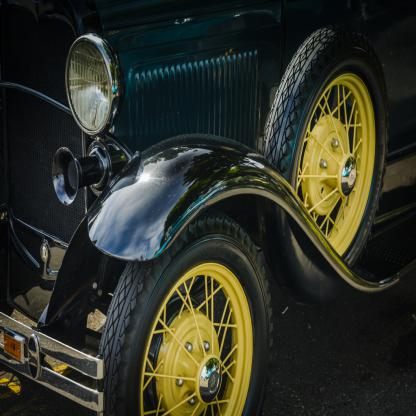Car: (10, 0, 413, 413)
